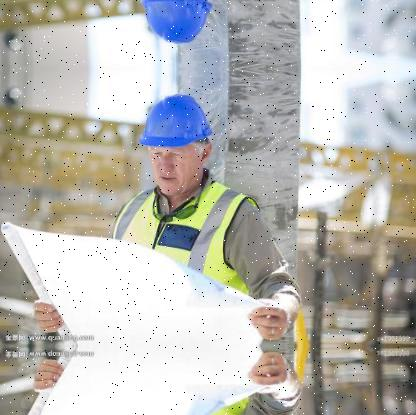helmet: (128, 82, 222, 205), (128, 0, 223, 55)
